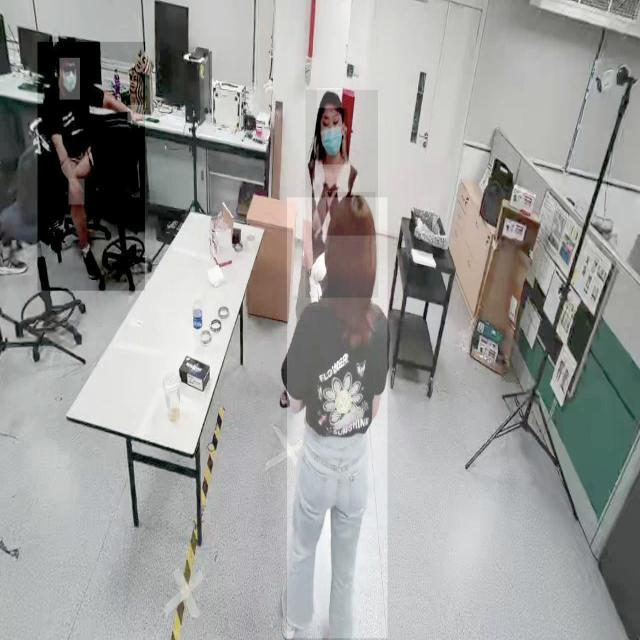face_mask: (318, 109, 348, 164), (60, 58, 80, 100)
hand_glove: (304, 249, 328, 307)
hand_noglove: (69, 179, 85, 205), (128, 105, 144, 123)
head_nohelmet: (326, 192, 376, 236), (50, 36, 76, 57), (317, 88, 343, 108)
person: (287, 197, 388, 639), (38, 41, 146, 292), (306, 90, 378, 298)
